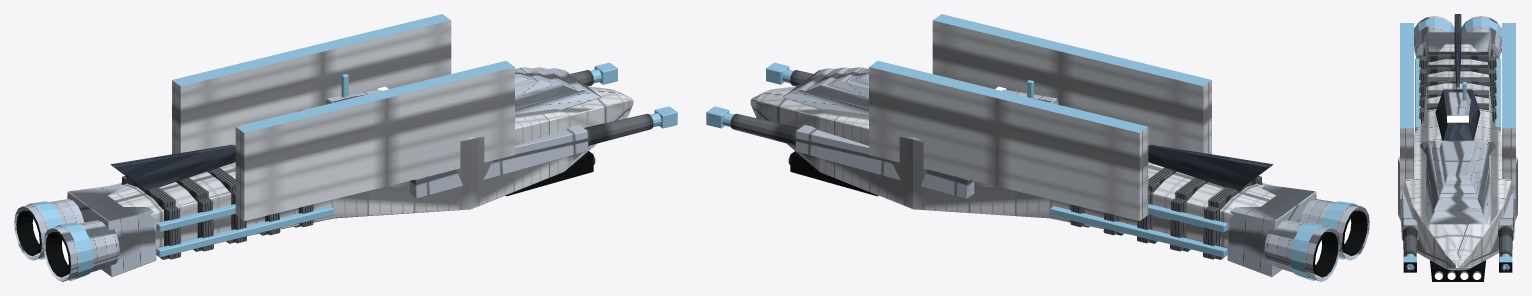
Rendered from destroyer.glb.
3 views of the same model, side by side, from view 1: azimuth 30°, elevation 25°; view 2: azimuth 150°, elevation 25°; view 3: azimuth 270°, elevation 25° (orthographic). The views are drawn at different scales.
Visible parts, largest first — view 1: destroyer; view 2: destroyer; view 3: destroyer.
Part boxes in pixels (x1,y1,x2,y2): destroyer: (14,14,677,281); destroyer: (706,14,1369,281); destroyer: (1398,14,1517,281).
Size of the model in its own units: 30 by 6.91 by 6.48.
1 material, 1 textured.
